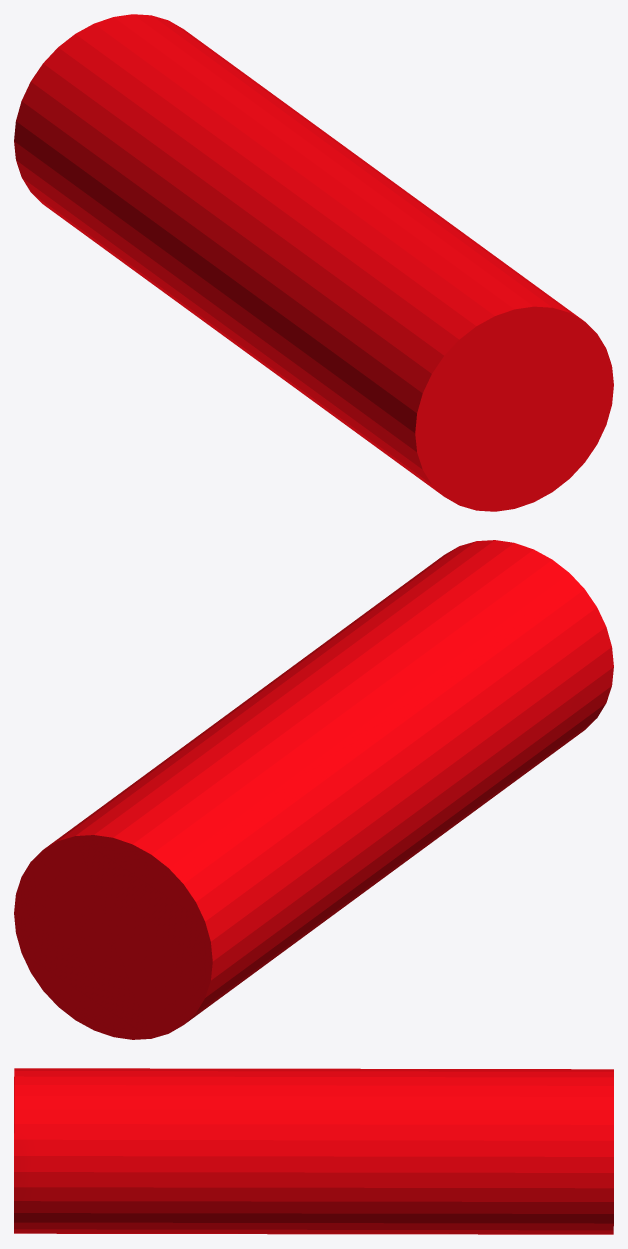
File: laser.gltf
3 views of the same model, one above another, from view 1: azimuth 30°, elevation 25°; view 2: azimuth 150°, elevation 25°; view 3: azimuth 270°, elevation 25° (orthographic). The views are drawn at different scales.
Parts seen in each view (by area): view 1: Cylinder; view 2: Cylinder; view 3: Cylinder.
Boxes of the visible parts, box(x1,y1,x2,y2) form: Cylinder: box(14, 14, 613, 511); Cylinder: box(14, 540, 613, 1039); Cylinder: box(14, 1068, 613, 1234).
Size of the model in its own units: 0.0331 by 0.0319 by 0.1158.
Materials: 2 (2 with a texture image).
